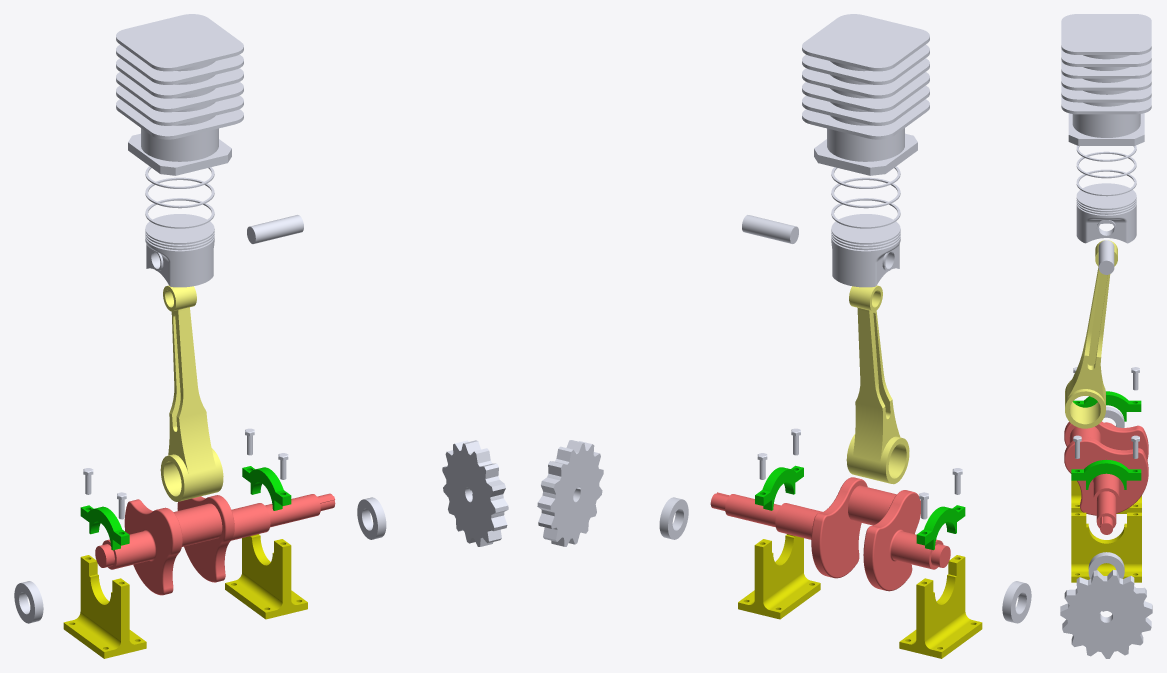
File: simple_one_cylinder_motor.glb
3 views of the same model, side by side, from view 1: azimuth 30°, elevation 25°; view 2: azimuth 150°, elevation 25°; view 3: azimuth 270°, elevation 25° (orthographic). The views are drawn at different scales.
Visible parts, largest first — view 1: Body_1 (×12), Body_2; view 2: Body_1 (×12), Body_2; view 3: Body_1 (×15), Body_2.
Boxes of the visible parts, x1,y1,x2,y2 form: Body_1 (×12): (14,14,508,658); Body_2: (95,499,182,595); Body_1 (×12): (537,14,1031,658); Body_2: (863,490,950,591); Body_1 (×15): (1060,14,1152,658); Body_2: (1064,421,1148,460).
Size of the model in its own units: 0.7017 by 0.8501 by 0.1417.
